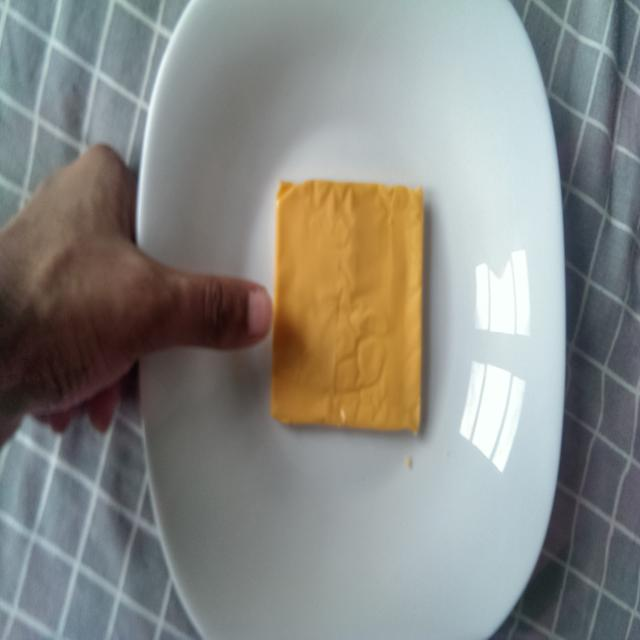cheese: (275, 176, 438, 485)
